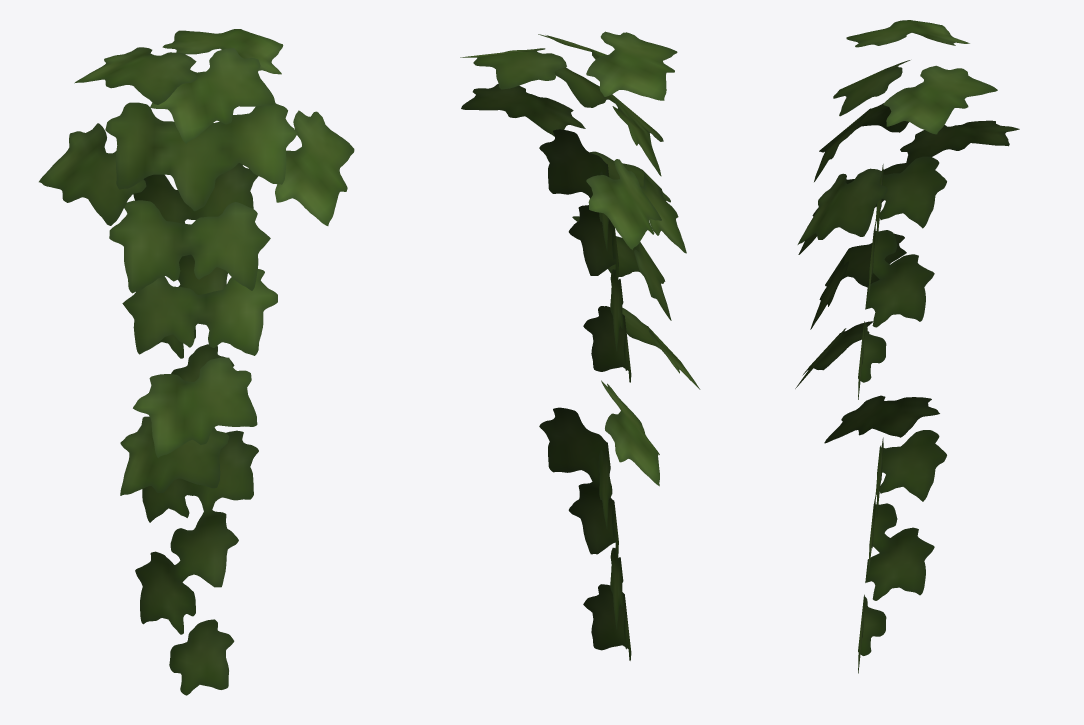
File: Ivy1.fbx
3 renders of one model, left to right at view 1: azimuth 30°, elevation 25°; view 2: azimuth 150°, elevation 25°; view 3: azimuth 270°, elevation 25°, orthographic.
Parts seen in each view (by area): view 1: Ivy1; view 2: Ivy1; view 3: Ivy1.
Boxes of the visible parts, box(x1,y1,x2,y2) form: Ivy1: box(39, 29, 354, 695); Ivy1: box(460, 31, 700, 660); Ivy1: box(795, 20, 1019, 673).
Bounding box in the file's own units: 126 × 262 × 114.
1 material, 1 textured.
